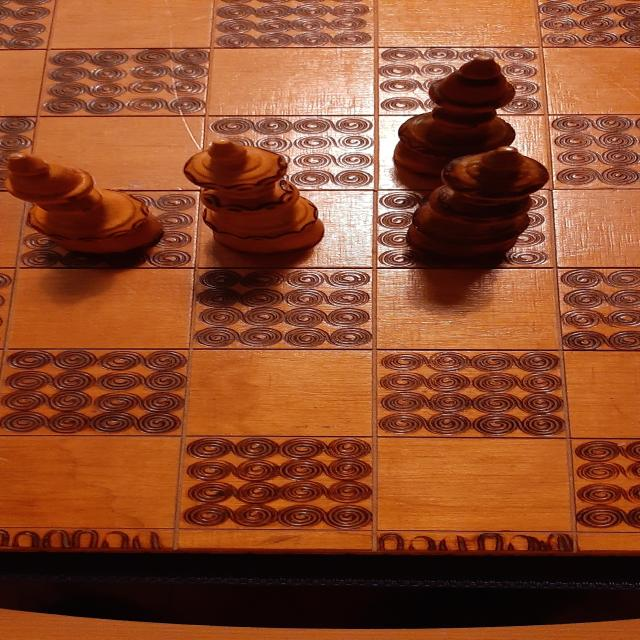black-king: (404, 146, 552, 263)
black-queen: (392, 54, 517, 180)
white-king: (181, 139, 326, 254)
white-queen: (3, 153, 165, 255)
